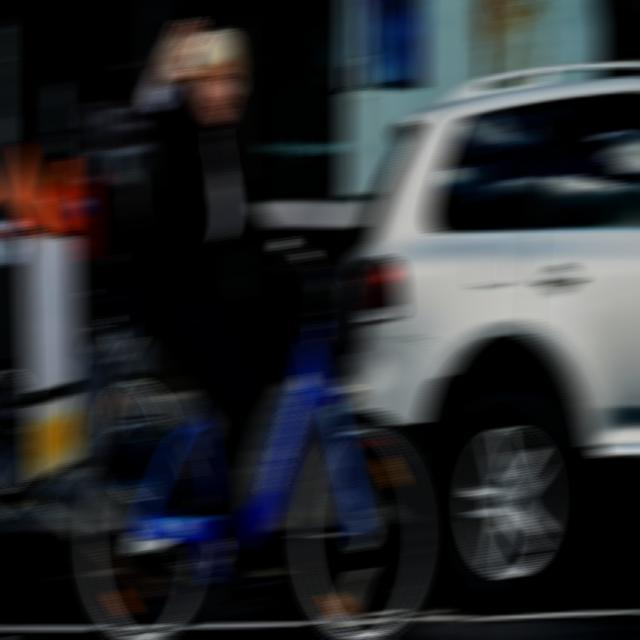Without Helmet: (185, 18, 247, 136)
